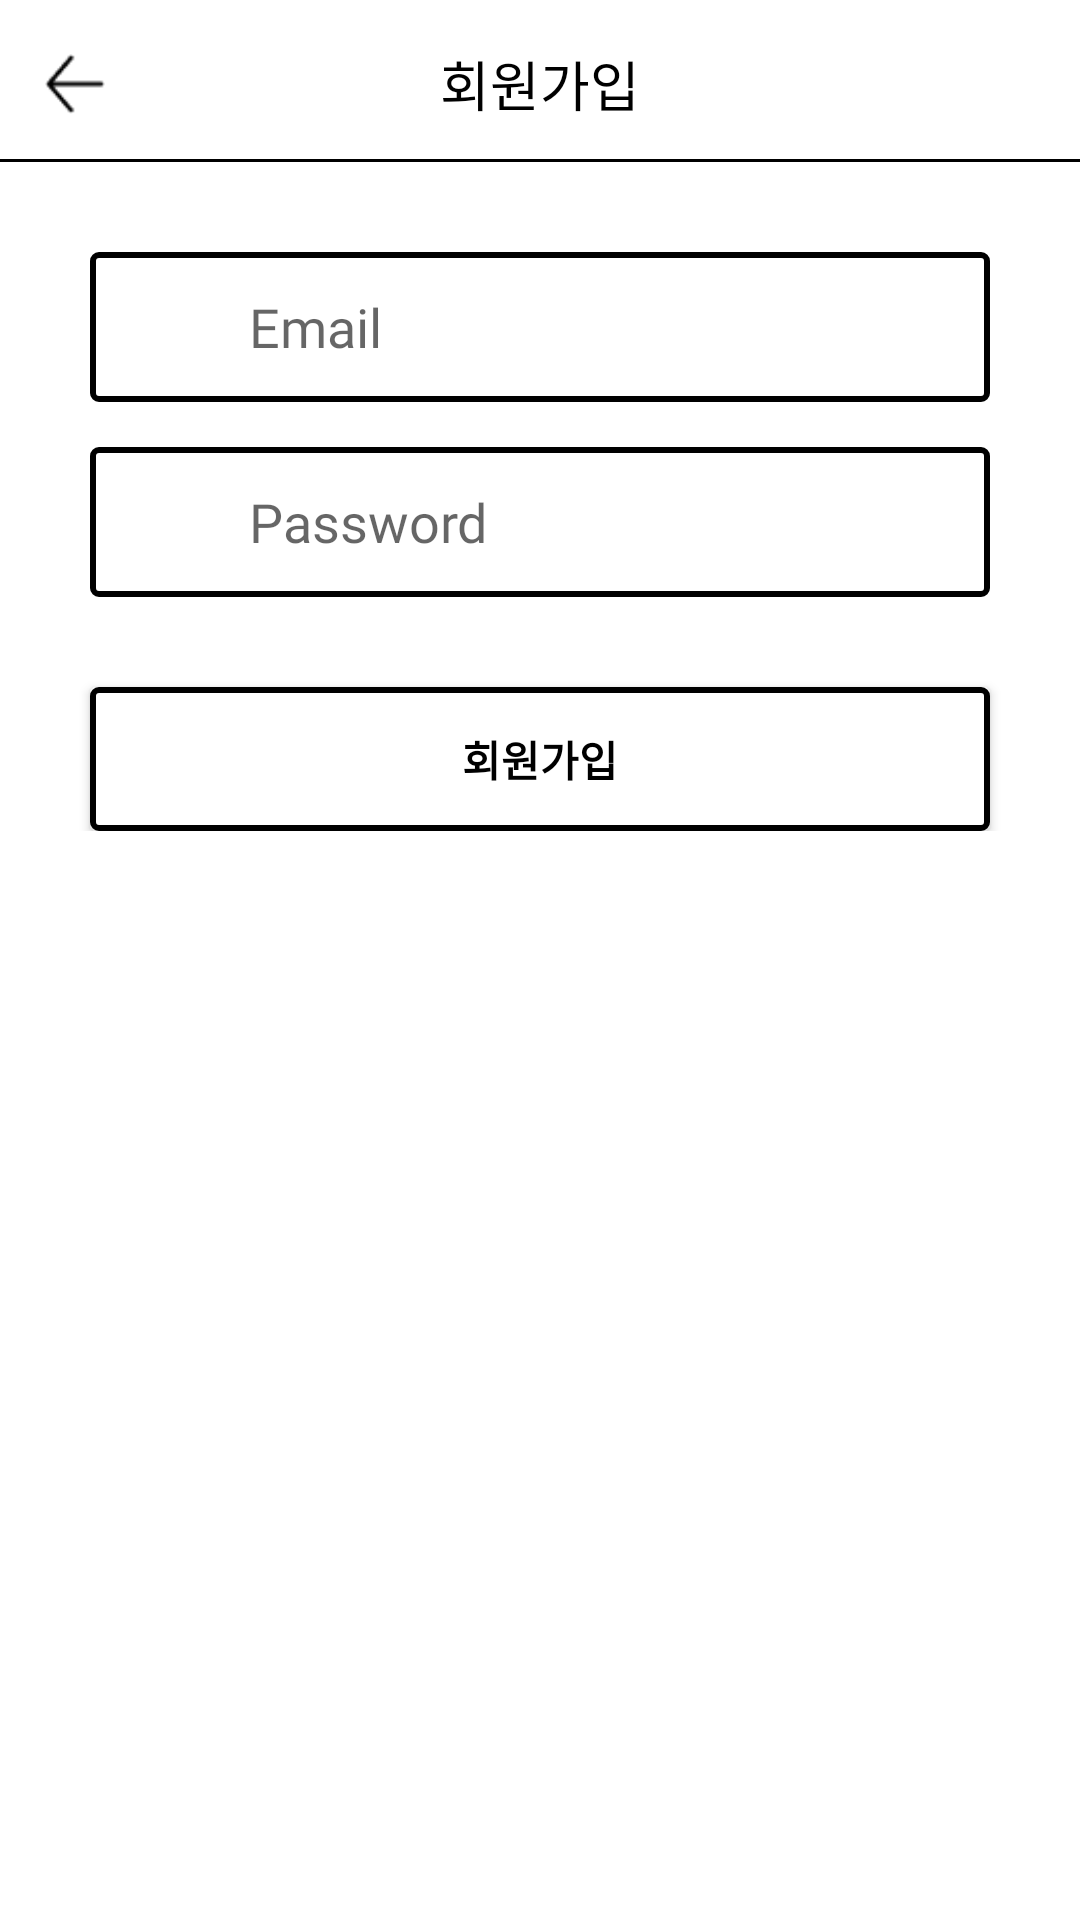

Named icons in this screenshot (1080w x 1920h) and their centers, (x=x, y=y):
back: (x=75, y=83)
